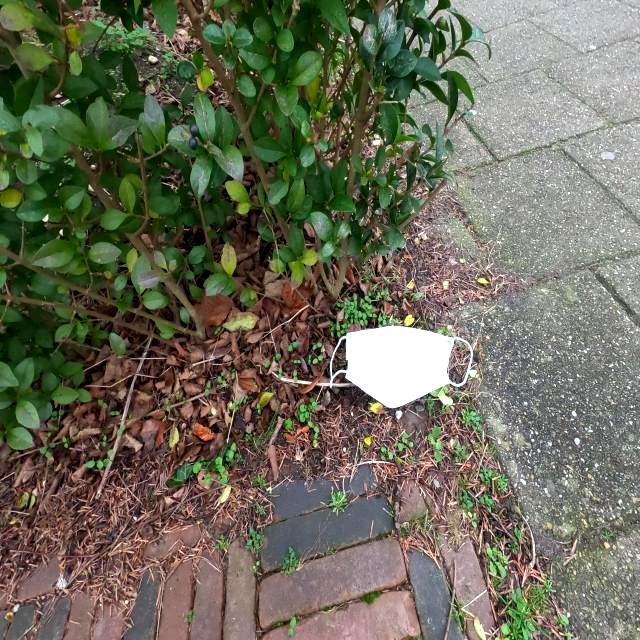Mask: (328, 322, 474, 410)
